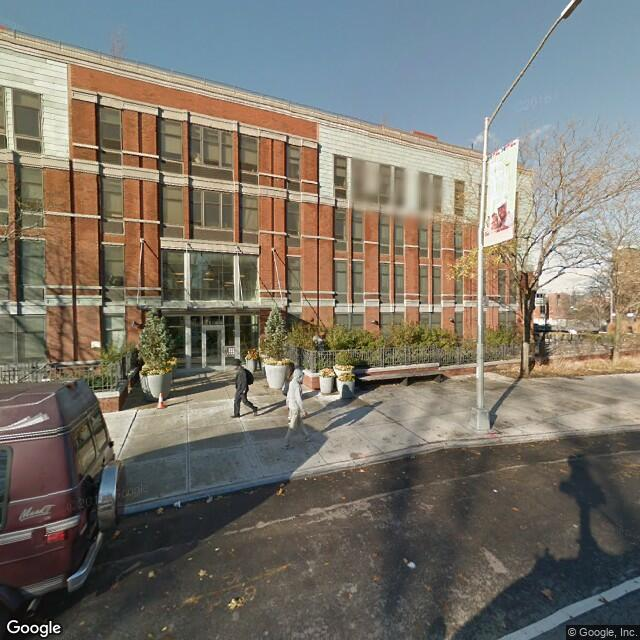litter: (154, 391, 167, 409)
